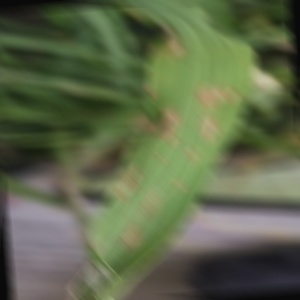Brown_Spot: (109, 154, 148, 197), (142, 103, 187, 140), (104, 219, 150, 254), (125, 192, 174, 222), (194, 82, 242, 105), (192, 113, 221, 143), (158, 20, 186, 46), (162, 32, 187, 59), (179, 140, 203, 167), (143, 40, 167, 63), (137, 79, 161, 101), (150, 149, 172, 169), (162, 131, 185, 150), (165, 176, 187, 194), (129, 4, 149, 21)
